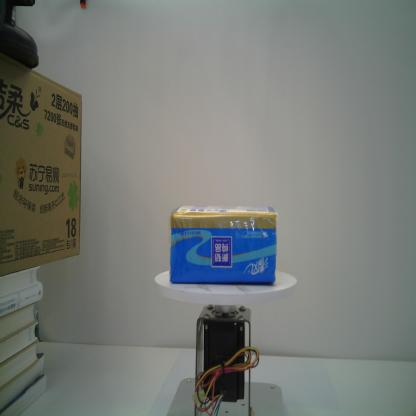Tissue: (170, 204, 278, 286)
